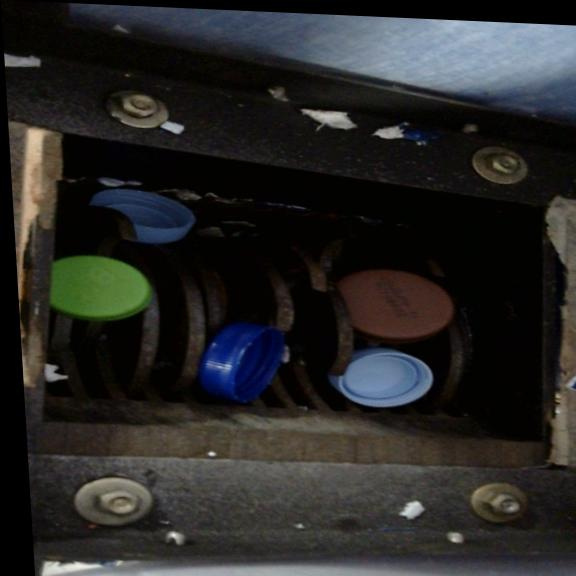Plastik: (338, 261, 468, 343), (323, 347, 456, 421), (40, 257, 174, 330), (94, 176, 219, 252), (212, 322, 299, 424)
